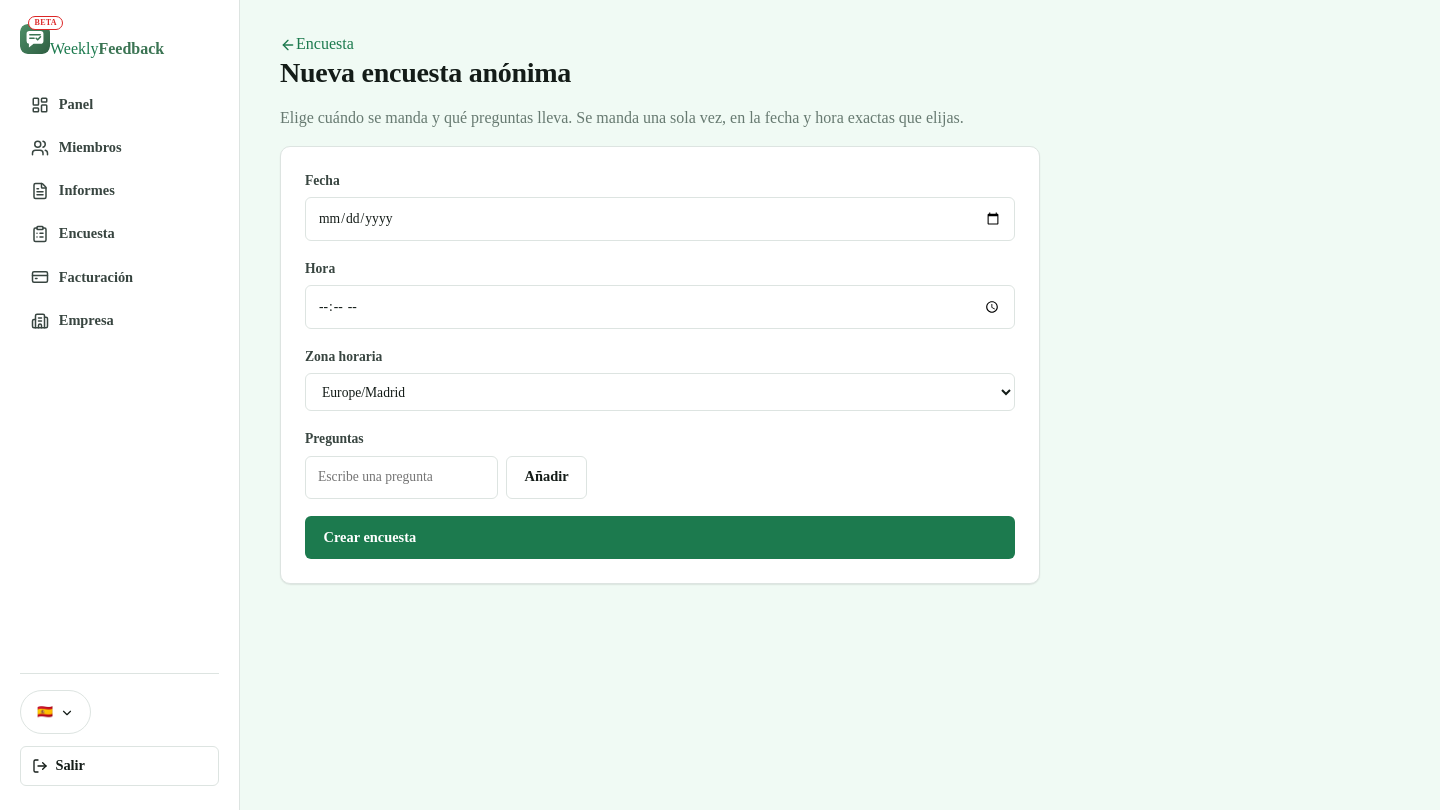
Test case: NewSurveyPage › sin ninguna pregunta añadida, no manda nada y muestra el aviso
The width and height of the screenshot is (1440, 810).
Type "2099-01-01" into the date field labelled "Fecha".
click(660, 219); type("2099-01-01")  # box [305, 197, 1015, 241]
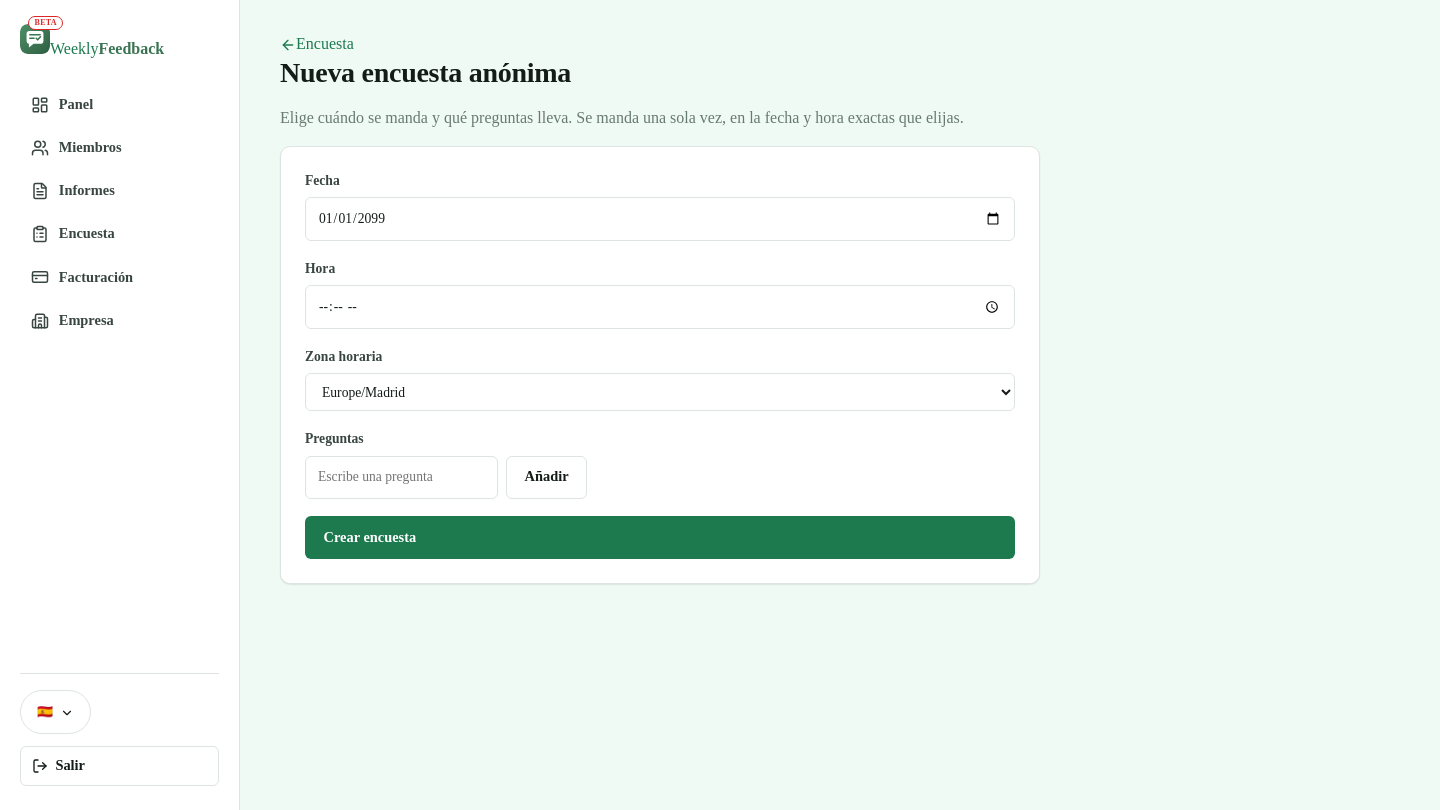
Type "10:00" into the time field labelled "Hora".
click(660, 307); type("10:00")  # box [305, 285, 1015, 329]
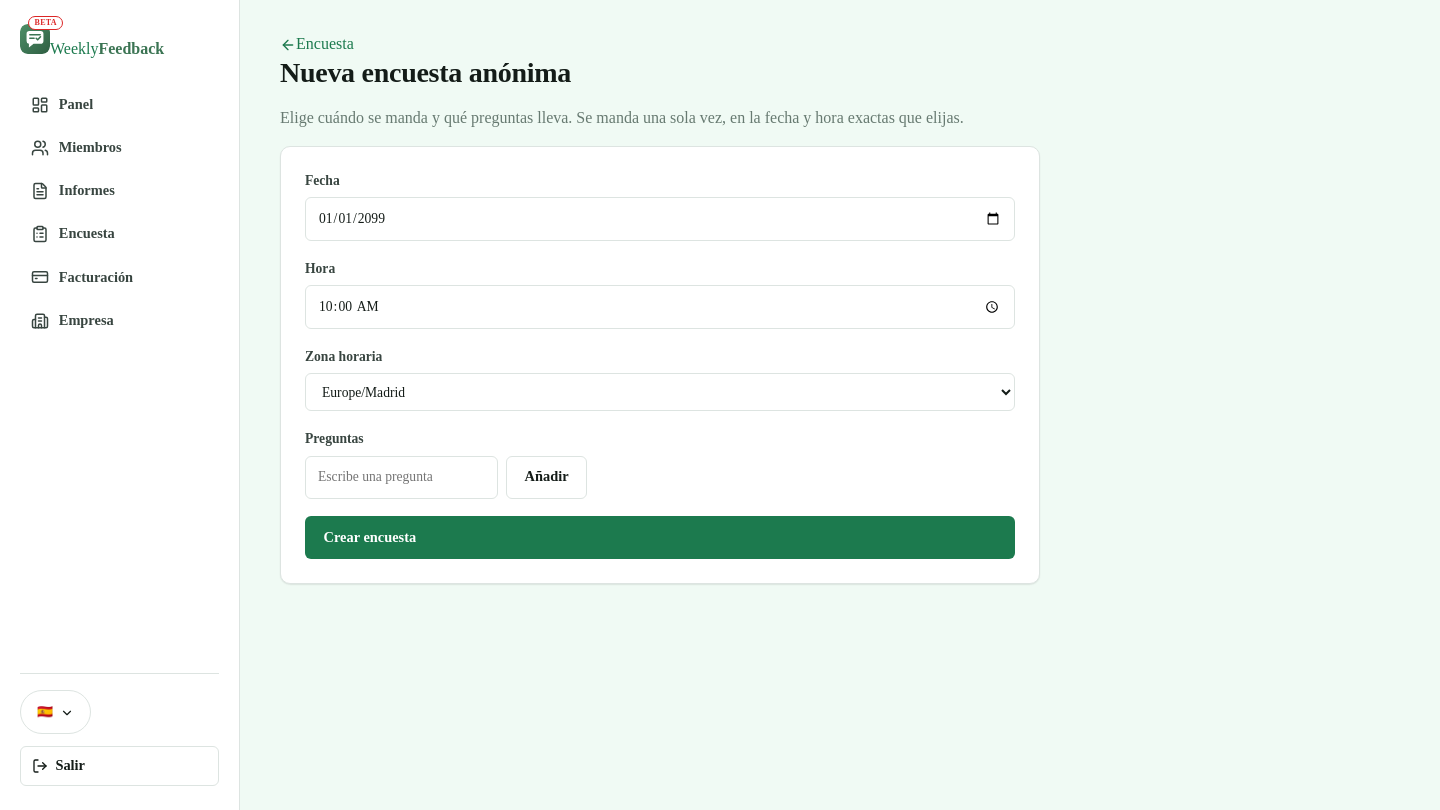
Click the button "Crear encuesta".
click(370, 537)  # box [305, 516, 1015, 559]
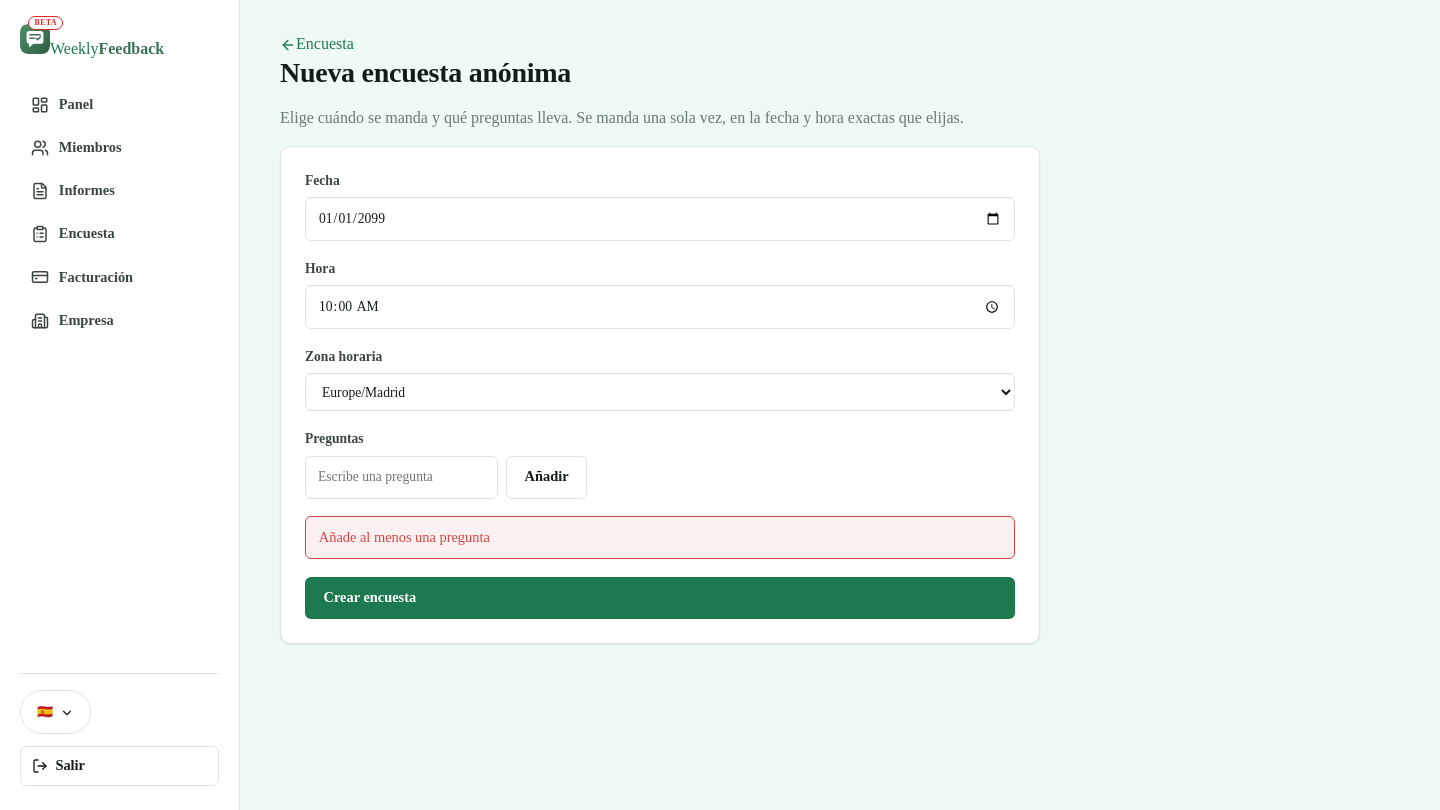
Result: the text "Añade al menos una pregunta" is shown at [305, 516, 1015, 559]
